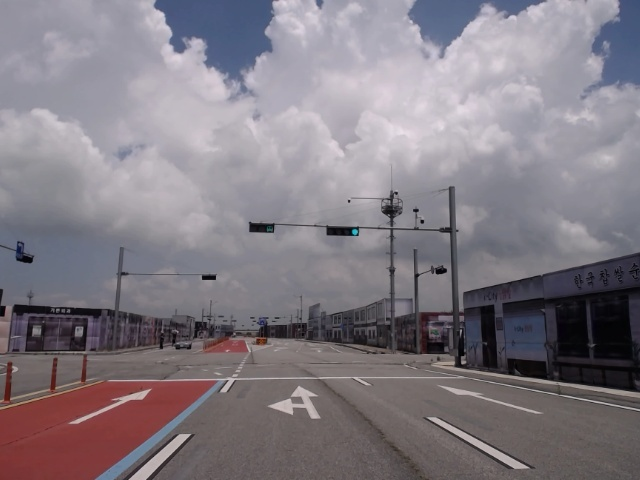straight_green_4: (328, 226, 359, 236)
